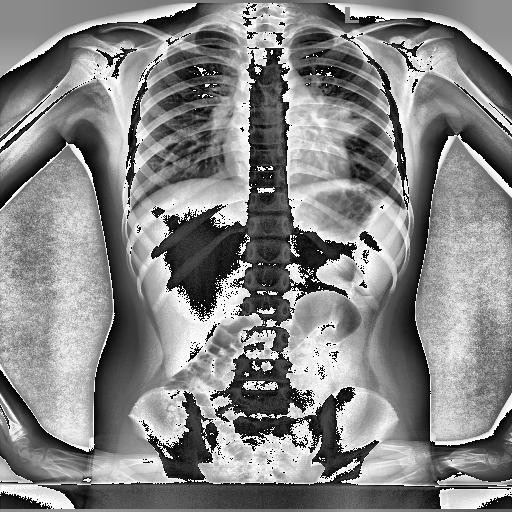4- Consolidation: (300, 86, 374, 140), (308, 96, 372, 138)
7- Lung Opacity: (300, 86, 374, 140), (305, 100, 369, 138)
8- Nodule-Mass: (305, 100, 369, 138)
